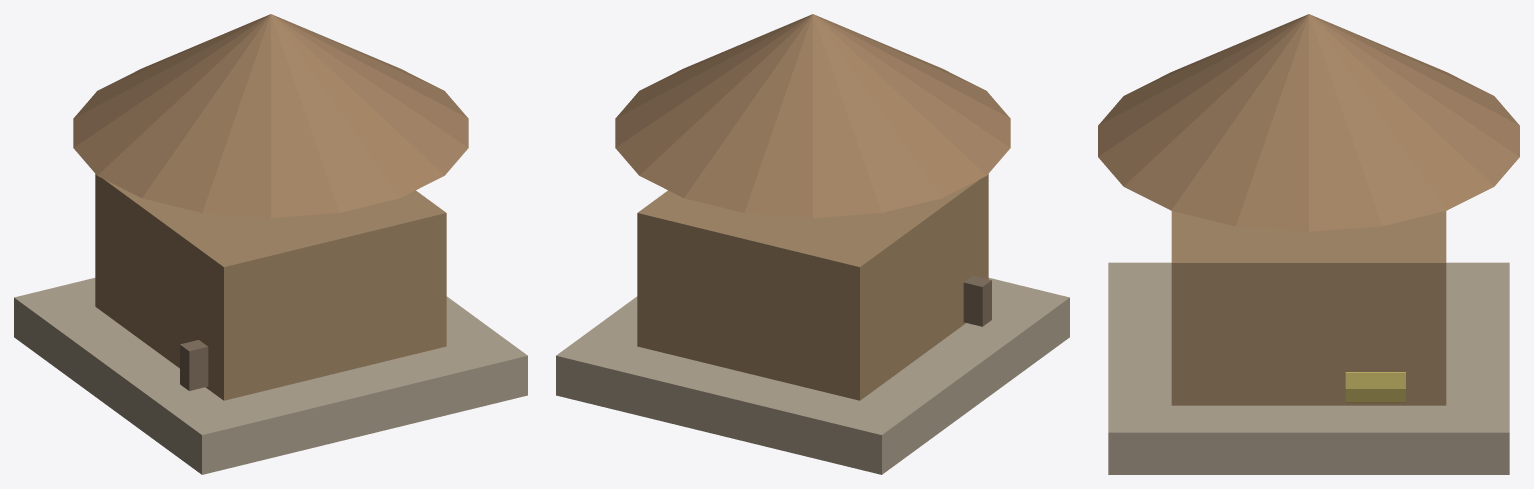
File: goldmine.glb
The picture shows the model from 3 angles, left to right: view 1: azimuth 30°, elevation 25°; view 2: azimuth 150°, elevation 25°; view 3: azimuth 270°, elevation 25°; orthographic projection. The views are drawn at different scales.
Visible parts, largest first — view 1: g2, g1, g0, g4; view 2: g2, g1, g0, g4; view 3: g2, g1, g0, g3.
Part boxes in pixels (bbox=[...]): g2: bbox=[73, 14, 468, 217]; g1: bbox=[95, 174, 446, 400]; g0: bbox=[14, 278, 527, 474]; g4: bbox=[180, 340, 208, 390]; g2: bbox=[615, 14, 1010, 217]; g1: bbox=[637, 174, 988, 400]; g0: bbox=[556, 278, 1069, 474]; g4: bbox=[963, 275, 991, 326]; g2: bbox=[1098, 14, 1519, 231]; g1: bbox=[1171, 211, 1446, 405]; g0: bbox=[1108, 262, 1509, 474]; g3: bbox=[1345, 372, 1405, 402].
Bounding box in the file's own units: 1.28 × 1.24 × 1.26.
